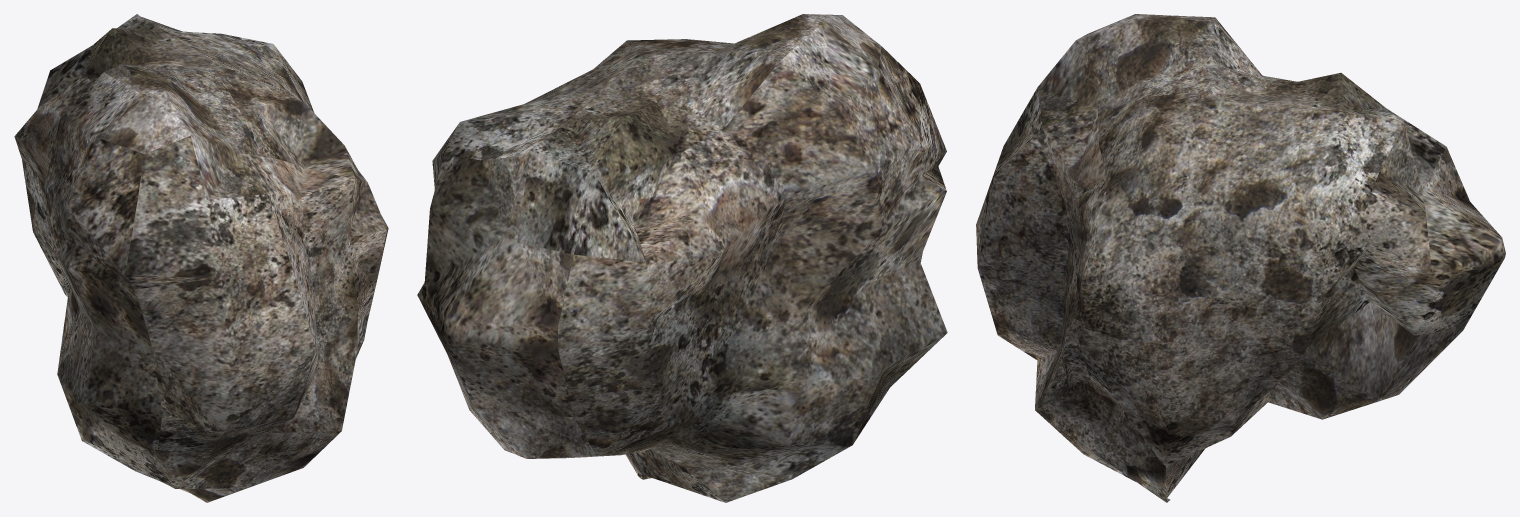
Rendered from Rock_10x10_B.FBX.
The picture shows the model from 3 angles, left to right: view 1: azimuth 30°, elevation 25°; view 2: azimuth 150°, elevation 25°; view 3: azimuth 270°, elevation 25°; orthographic projection. The views are drawn at different scales.
Visible parts, largest first — view 1: Rock_10x10_B; view 2: Rock_10x10_B; view 3: Rock_10x10_B.
Part boxes in pixels (<box>): Rock_10x10_B: <box>14,14,388,502</box>; Rock_10x10_B: <box>417,14,947,502</box>; Rock_10x10_B: <box>976,14,1505,502</box>.
Size of the model in its own units: 8.94 by 10.75 by 12.12.
1 material, 1 textured.
